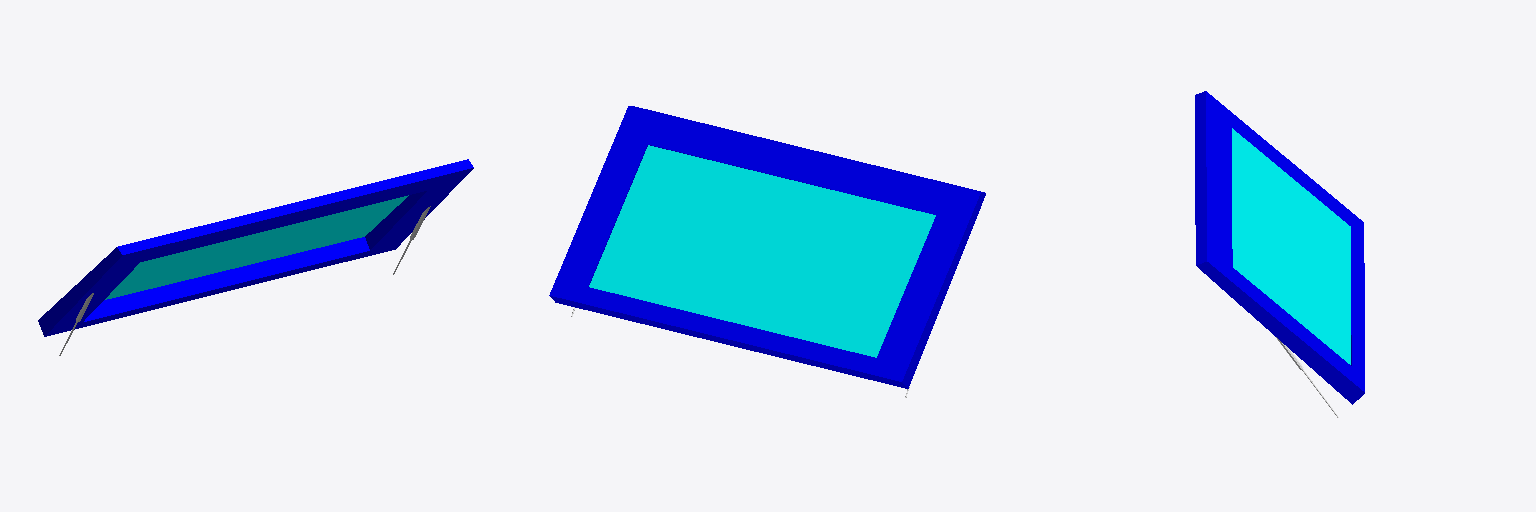
Rendered from laserlid.obj.
3 views of the same model, side by side, from view 1: azimuth 30°, elevation 25°; view 2: azimuth 150°, elevation 25°; view 3: azimuth 270°, elevation 25° (orthographic).
Visible parts, largest first — view 1: object_2, object_1; view 2: object_1, object_2; view 3: object_1, object_2.
Part boxes in pixels (bbox=[...]): object_2: bbox=[38, 159, 473, 336]; object_1: bbox=[105, 195, 408, 299]; object_1: bbox=[589, 145, 935, 357]; object_2: bbox=[549, 106, 985, 388]; object_1: bbox=[1232, 128, 1350, 364]; object_2: bbox=[1195, 91, 1364, 404].
Size of the model in its own units: 44.01 by 19.22 by 18.51.